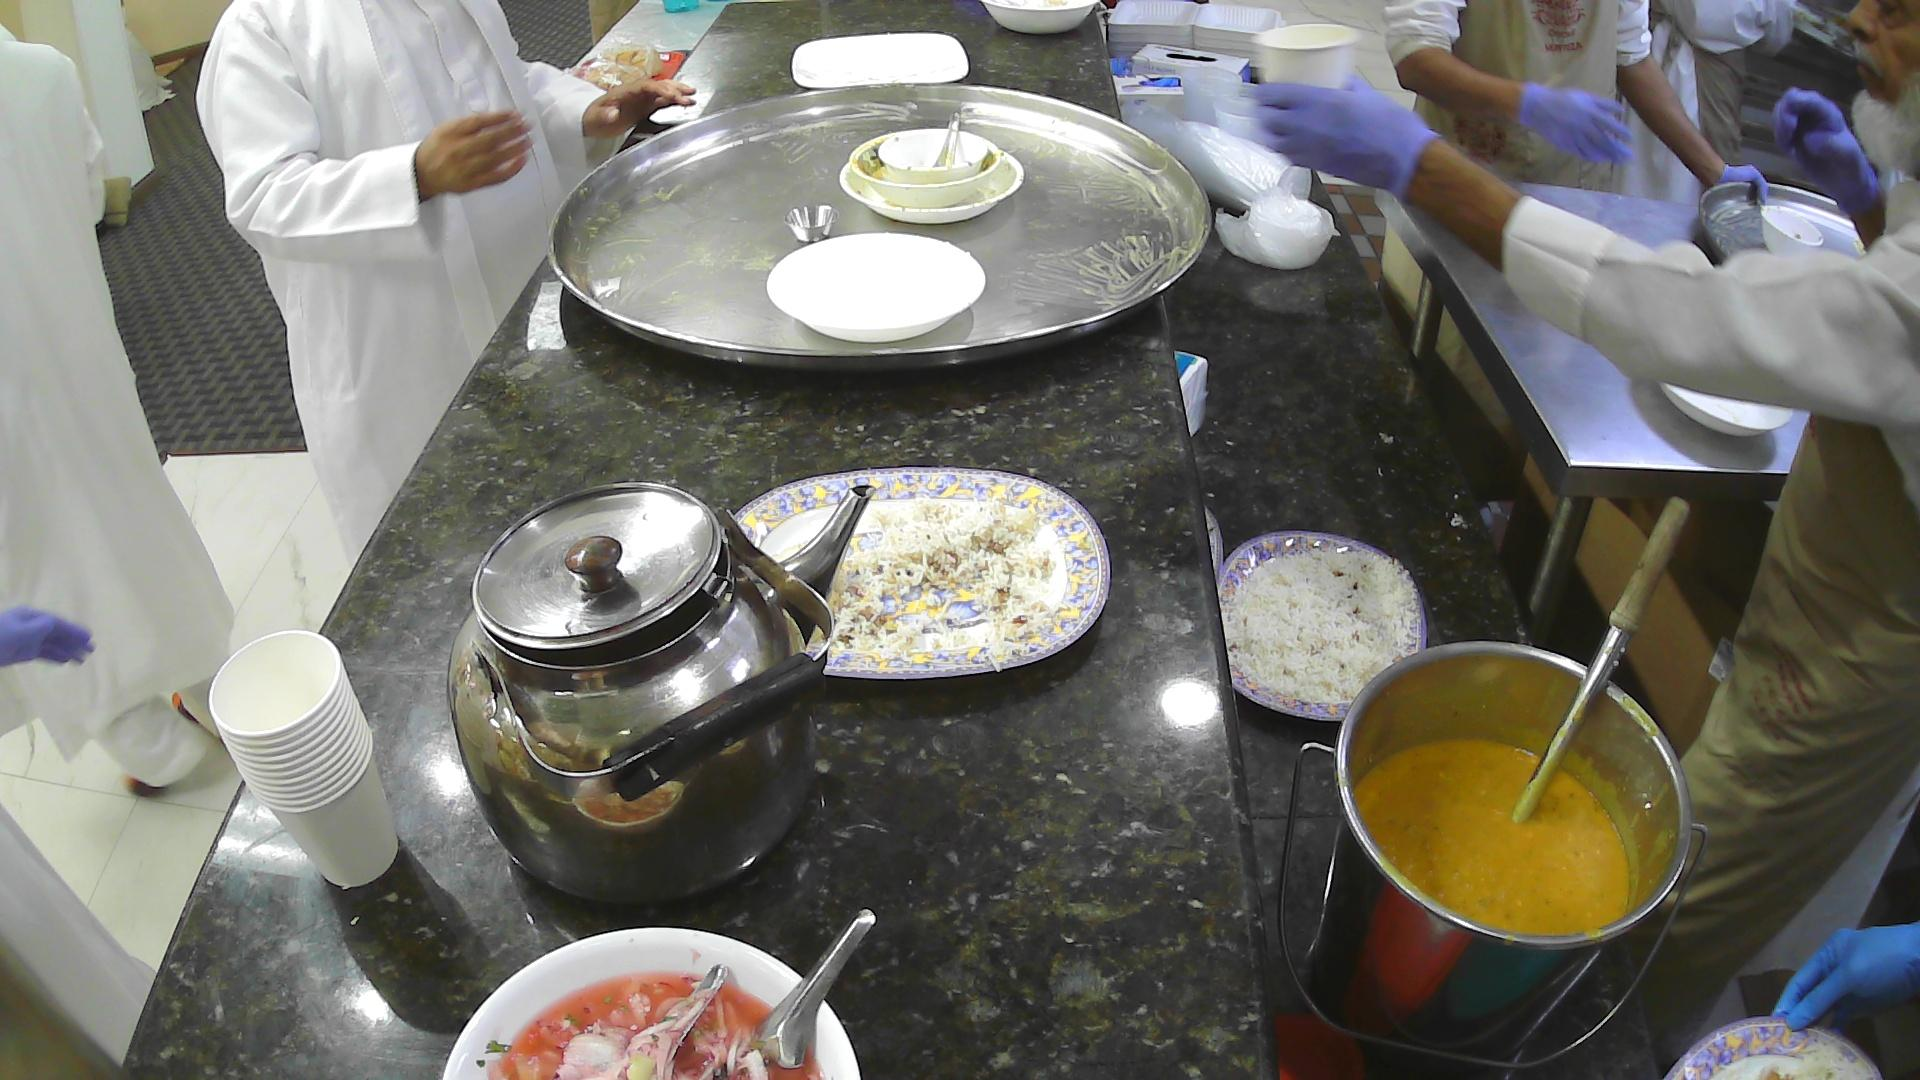thaal: (545, 80, 1215, 377), (1697, 179, 1867, 264)
